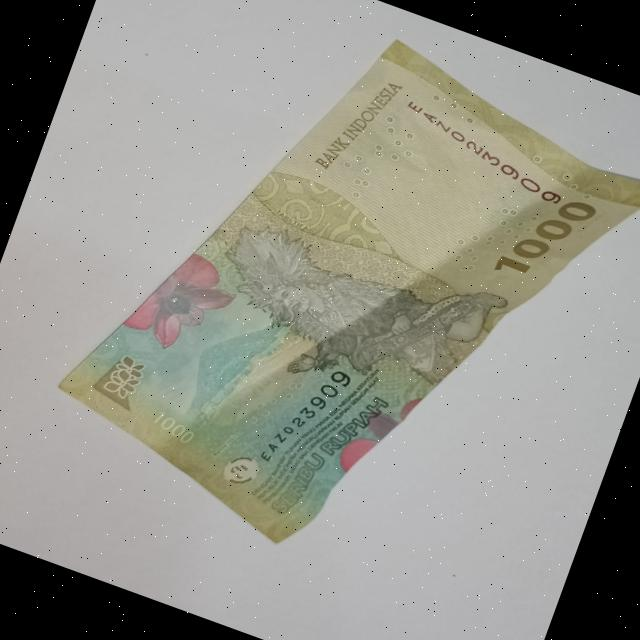1K: (29, 0, 640, 628)
